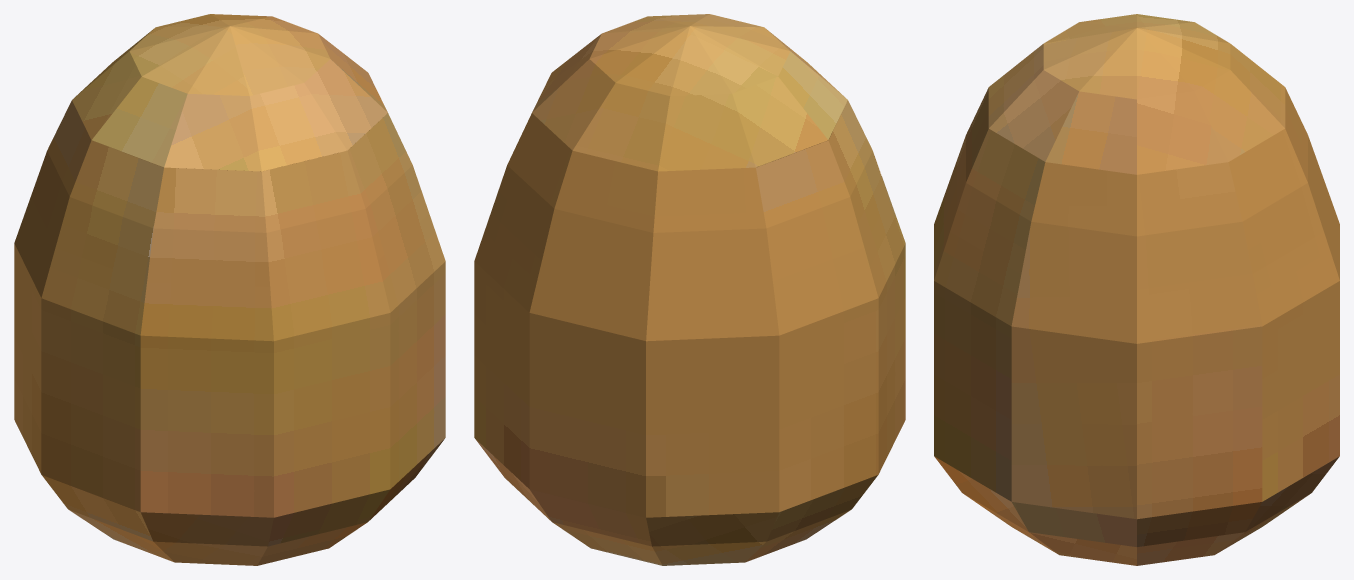
Rendered from egg-optimized.glb.
3 views of the same model, side by side, from view 1: azimuth 30°, elevation 25°; view 2: azimuth 150°, elevation 25°; view 3: azimuth 270°, elevation 25° (orthographic).
Visible parts, largest first — view 1: sphere; view 2: sphere; view 3: sphere.
Part boxes in pixels (x1,y1,x2,y2): sphere: (14,14,445,565); sphere: (474,14,905,565); sphere: (934,14,1339,565).
Bounding box in the file's own units: 0.5 × 0.625 × 0.4694.
1 material, 1 textured.
